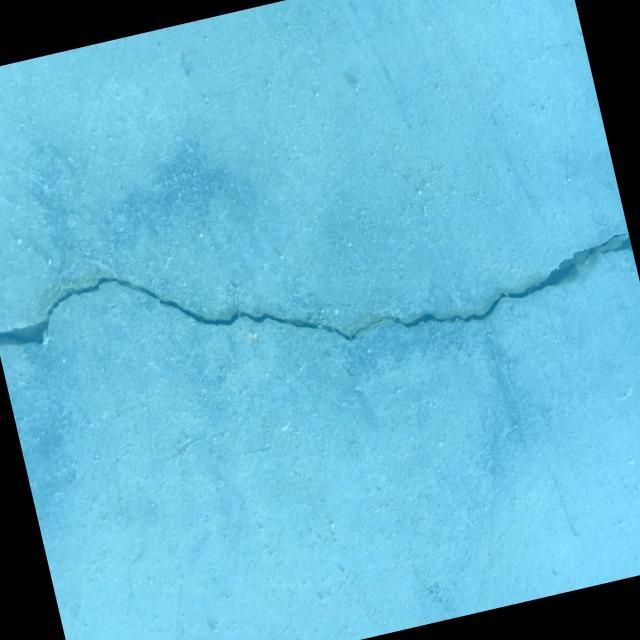crack: (0, 157, 640, 430)
